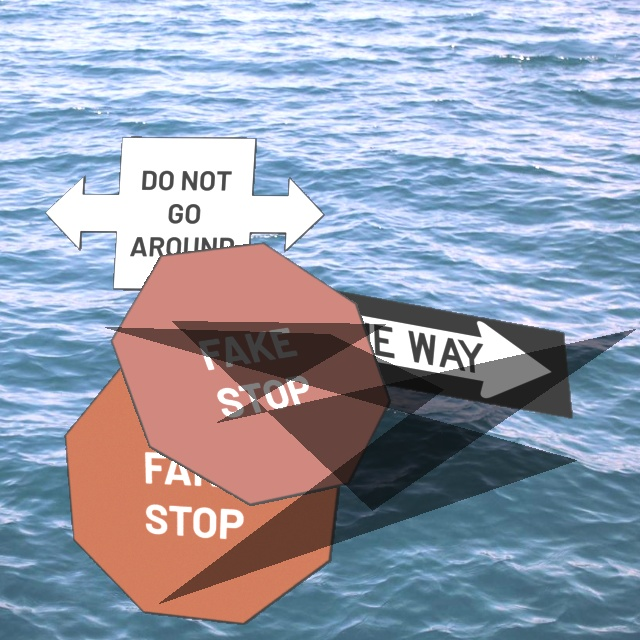DO_NOT_GO_AROUND: (44, 136, 325, 291)
FAKE_STOP: (64, 344, 345, 625), (110, 242, 391, 506)
ONE_WAY_ right: (292, 282, 573, 419)
